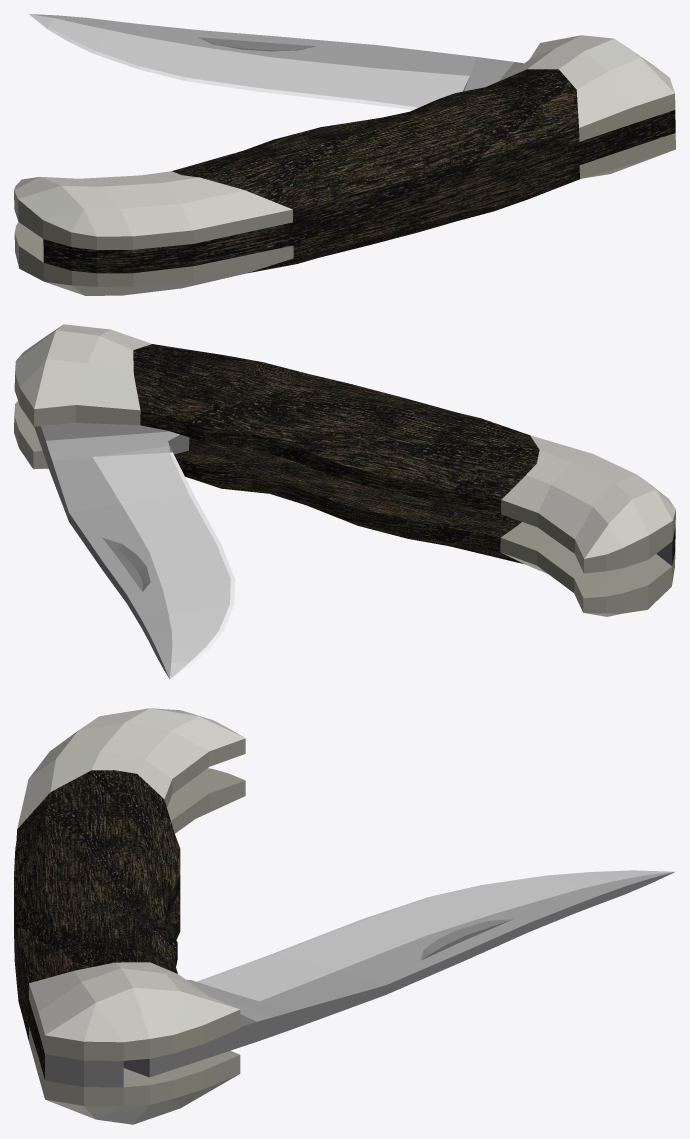
The model's file is WorldItem_Jackknife.fbx.
The picture shows the model from 3 angles, top to bottom: view 1: azimuth 30°, elevation 25°; view 2: azimuth 150°, elevation 25°; view 3: azimuth 270°, elevation 25°; orthographic projection. The views are drawn at different scales.
Visible parts, largest first — view 1: ZomboidJackknife; view 2: ZomboidJackknife; view 3: ZomboidJackknife.
Part boxes in pixels (<box>): ZomboidJackknife: <box>14,14,675,295</box>; ZomboidJackknife: <box>14,324,675,679</box>; ZomboidJackknife: <box>14,708,675,1124</box>.
Size of the model in its own units: 0.1074 by 0.0204 by 0.0891.
